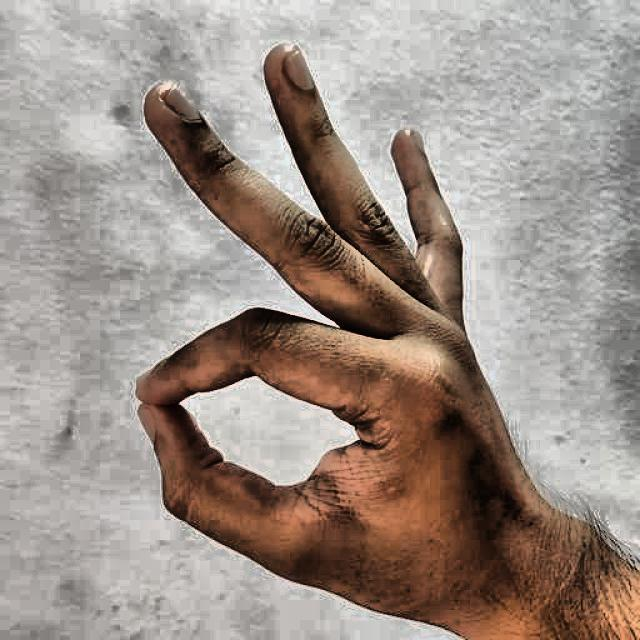Ca: (95, 25, 567, 640)
